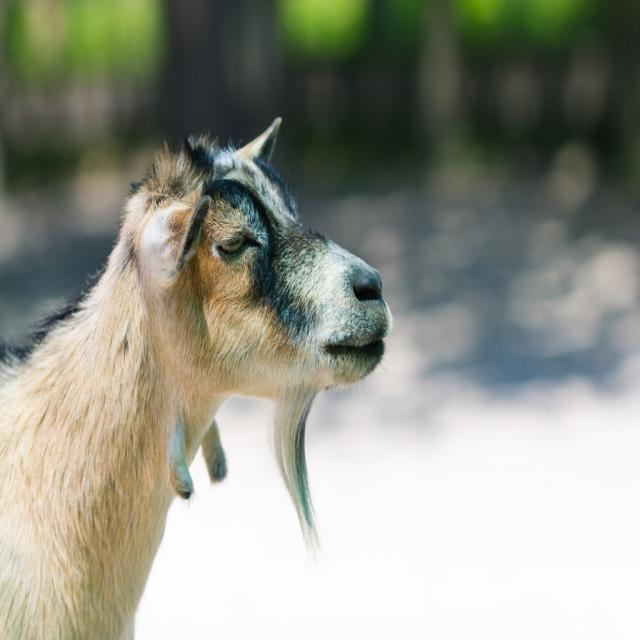Goat: (0, 127, 399, 605)
